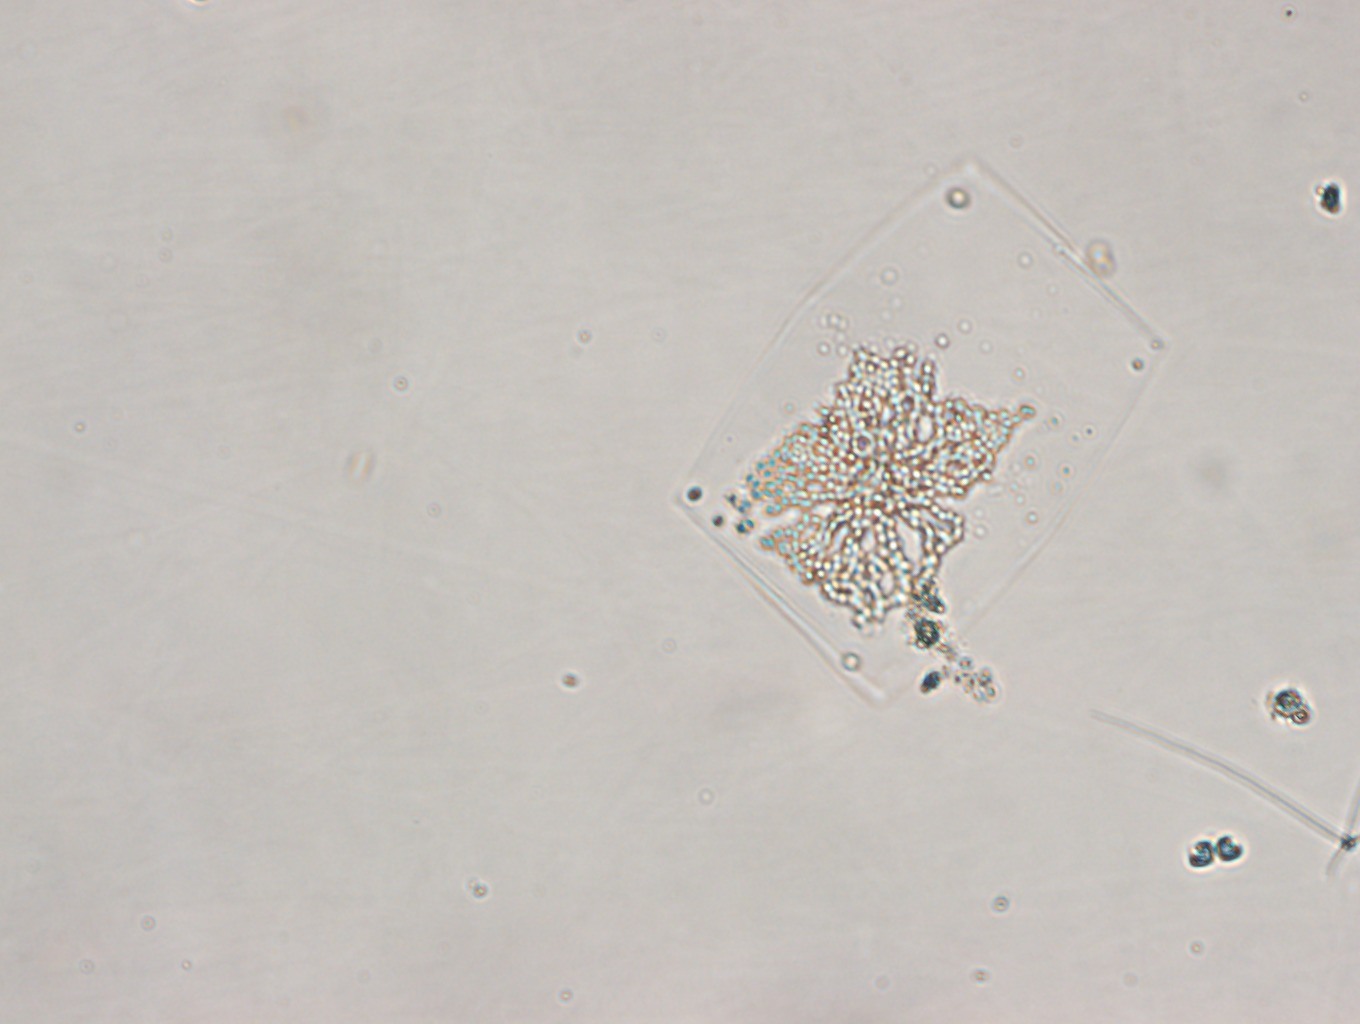helicotheca: (663, 143, 1168, 709)
